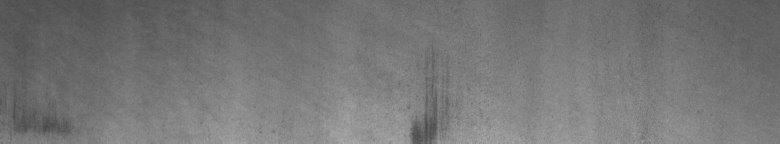ka: (400, 84, 452, 136)
